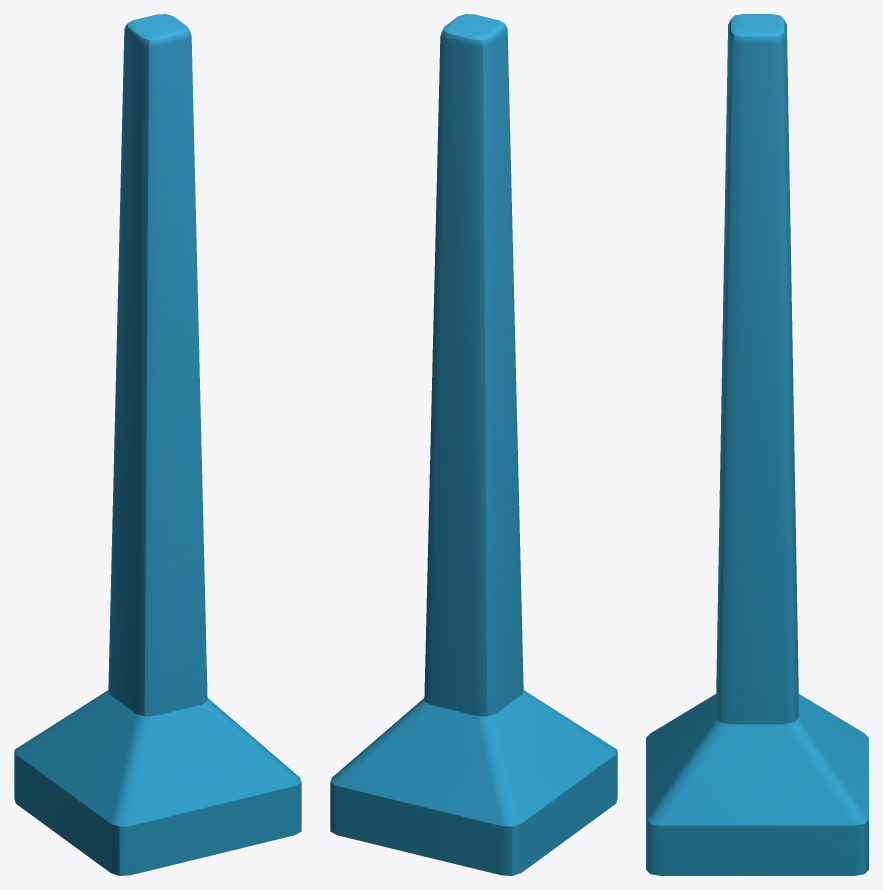
The model's file is direk_v1.fbx.
The picture shows the model from 3 angles, left to right: view 1: azimuth 30°, elevation 25°; view 2: azimuth 150°, elevation 25°; view 3: azimuth 270°, elevation 25°; orthographic projection.
Parts seen in each view (by area): view 1: direk_v1; view 2: direk_v1; view 3: direk_v1.
Part boxes in pixels (x1,y1,x2,y2): direk_v1: [14, 14, 301, 875]; direk_v1: [330, 14, 617, 875]; direk_v1: [646, 14, 868, 875].
Bounding box in the file's own units: 154 × 615 × 154.
1 material, 1 textured.
